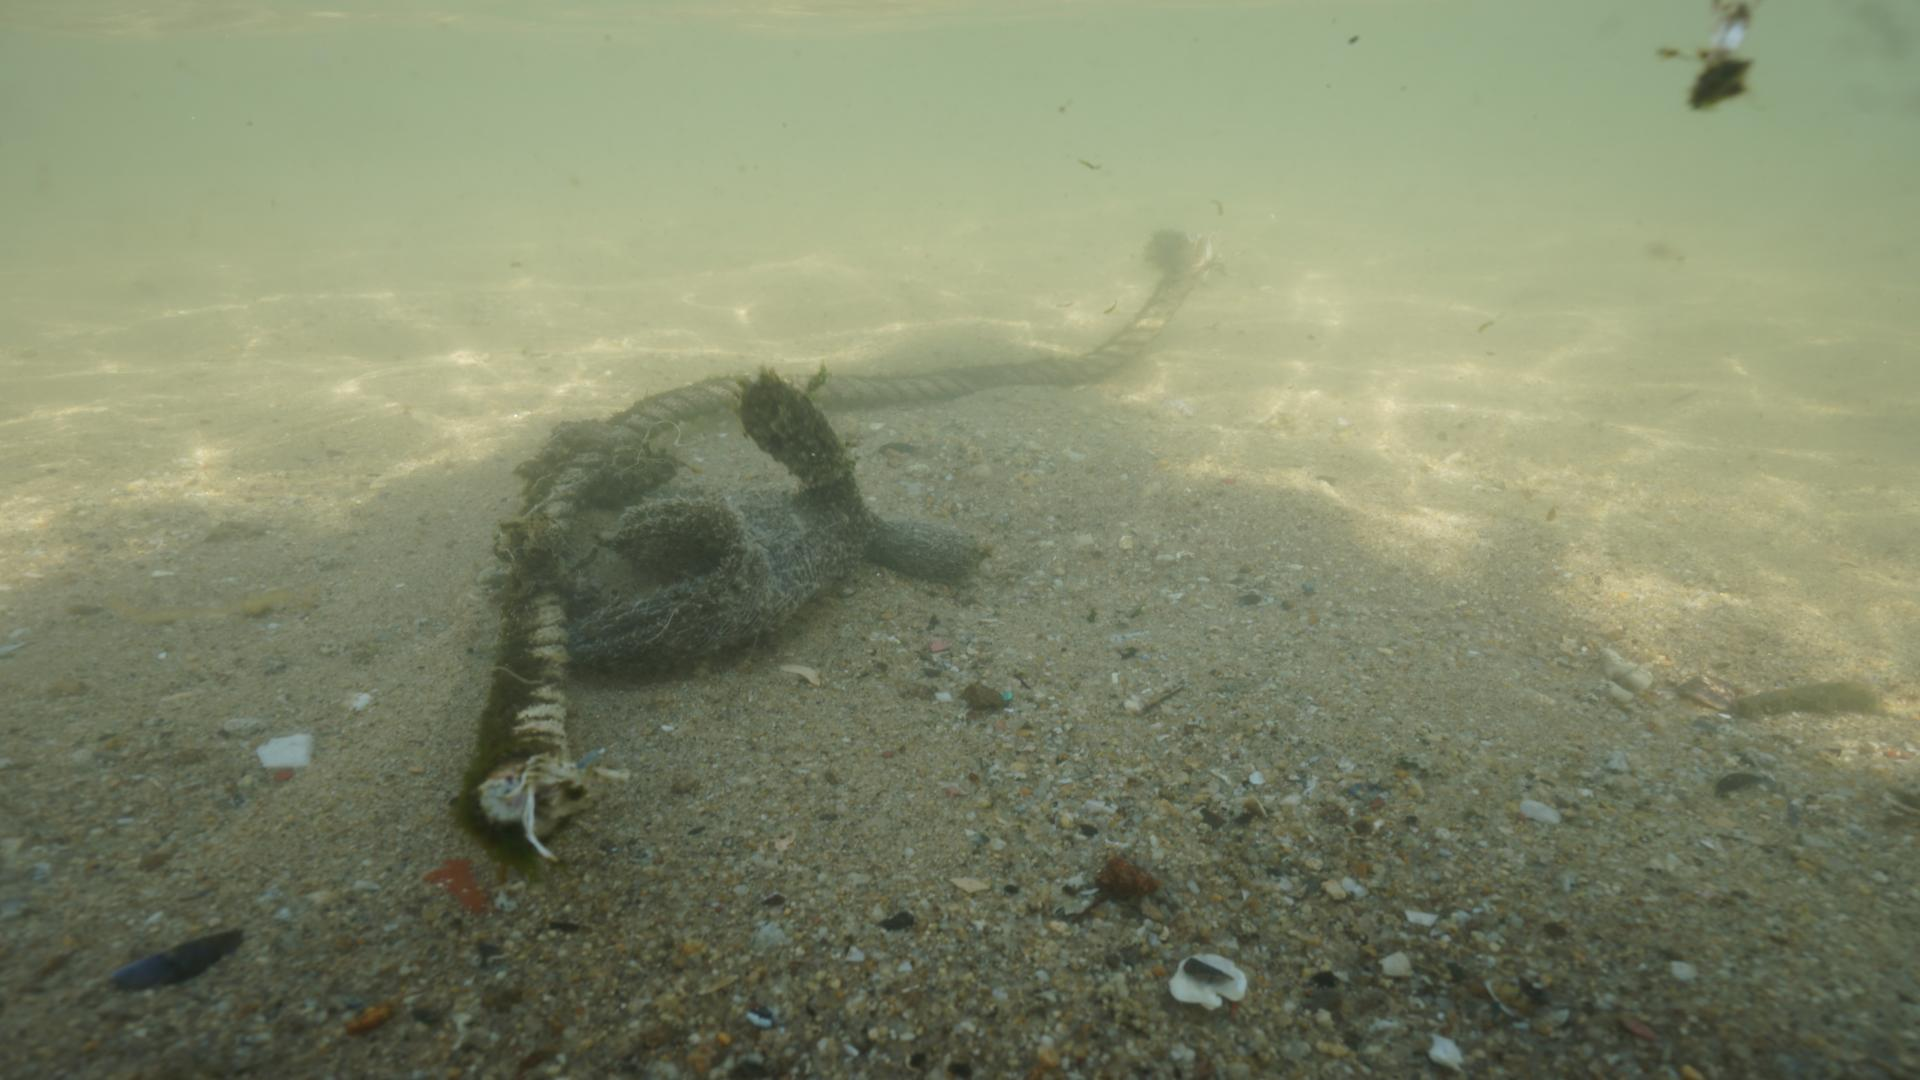rope: (469, 237, 1201, 843)
